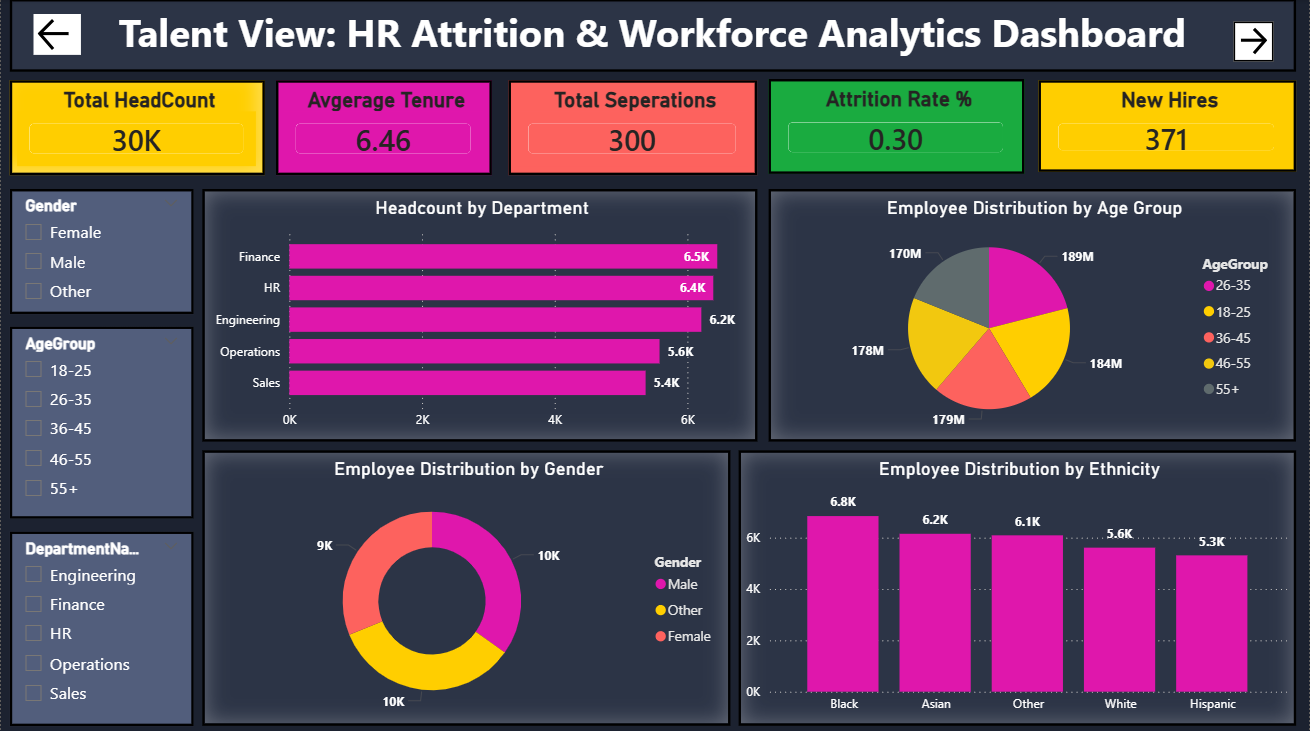

What the dashboard file says about the page in this screenshot:
{"tool":"powerbi","page":{"name":"Workforce Overview","canvas":[1280,720],"ordinal":1},"visuals":[{"type":"clusteredBarChart","title":"Headcount by Department","fields":{"Y":["fSeparations.Headcount121"],"Category":["dDepartment.DepartmentName"]},"box":[196.9,185.9,542.9,247],"z":0},{"type":"pieChart","title":"Employee Distribution by Age Group","fields":{"Category":["dDemographics.AgeGroup"],"Y":["Sum(fHeadcount.Headcount)"]},"box":[750.8,185.9,516,247],"z":1000},{"type":"slicer","fields":{"Values":["dDemographics.Gender"]},"box":[8.6,185.9,179.8,122.3],"z":2000},{"type":"slicer","fields":{"Values":["dDemographics.AgeGroup"]},"box":[8.6,320.4,179.8,188.3],"z":3000},{"type":"slicer","fields":{"Values":["dDepartment.DepartmentName"]},"box":[8.6,520.9,179.8,190.8],"z":4000},{"type":"textbox","box":[8.6,0,1258.3,70.9],"z":5000},{"type":"cardVisual","title":"Total HeadCount","fields":{"Data":["fSeparations.Headcount121"]},"box":[8.6,79.5,249.5,92.9],"z":6000},{"type":"cardVisual","title":"Avgerage Tenure","fields":{"Data":["dEmployee.Avg Tenure"]},"box":[269,79.5,211.6,92.9],"z":7000},{"type":"cardVisual","title":"Total Seperations","fields":{"Data":["fSeparations.Separations111"]},"box":[496.5,79.5,243.3,92.9],"z":8000},{"type":"cardVisual","title":"Attrition Rate %","fields":{"Data":["fSeparations.Attrition Rate % (Rolling 12M)"]},"box":[750.8,78.3,250.7,92.9],"z":9000},{"type":"cardVisual","title":"New Hires","fields":{"Data":["Hiring Funnel Stages.New Hires"]},"box":[1015,79.5,251.9,89.3],"z":10000},{"type":"actionButton","box":[1205.7,22,39.1,39.1],"z":11000},{"type":"clusteredColumnChart","title":"Employee Distribution by Ethnicity","fields":{"Category":["dDemographics.Ethnicity"],"Y":["fSeparations.Headcount121"]},"box":[720.9,441.3,545.2,269.4],"z":12000},{"type":"donutChart","title":"Employee Distribution by Gender","fields":{"Category":["dDemographics.Gender"],"Y":["fSeparations.Headcount121"]},"box":[196.3,441.3,517,269.4],"z":13000},{"type":"actionButton","box":[31.8,14.7,46.5,40.4],"z":14000}]}

Visuals, with their boxes in screenshot pixels (x1, y1, x2, y2), scaled from the page's 1280x720 canvas onto the 1310x731 screenshot:
"Headcount by Department" clusteredBarChart: (202, 189, 757, 440)
"Employee Distribution by Age Group" pieChart: (768, 189, 1296, 440)
slicer - dDemographics.Gender: (9, 189, 193, 313)
slicer - dDemographics.AgeGroup: (9, 325, 193, 516)
slicer - dDepartment.DepartmentName: (9, 529, 193, 723)
textbox: (9, 0, 1297, 72)
"Total HeadCount" cardVisual: (9, 81, 264, 175)
"Avgerage Tenure" cardVisual: (275, 81, 492, 175)
"Total Seperations" cardVisual: (508, 81, 757, 175)
"Attrition Rate %" cardVisual: (768, 79, 1025, 174)
"New Hires" cardVisual: (1039, 81, 1297, 171)
actionButton: (1234, 22, 1274, 62)
"Employee Distribution by Ethnicity" clusteredColumnChart: (738, 448, 1296, 722)
"Employee Distribution by Gender" donutChart: (201, 448, 730, 722)
actionButton: (33, 15, 80, 56)
